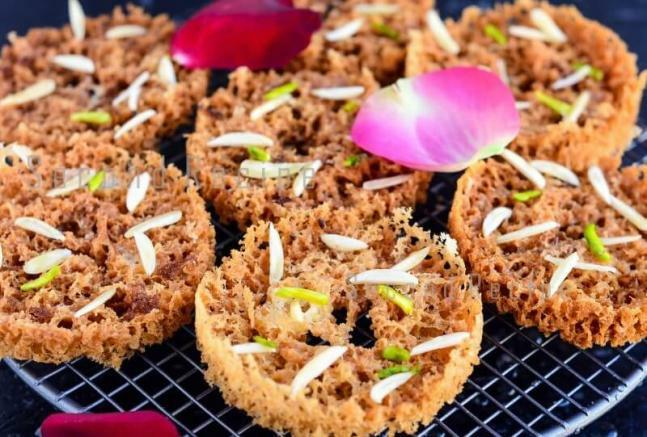Ghevar: (195, 199, 483, 437), (0, 133, 215, 363), (185, 54, 425, 226), (410, 0, 647, 172), (449, 146, 647, 347), (0, 4, 209, 148), (300, 0, 436, 78)
